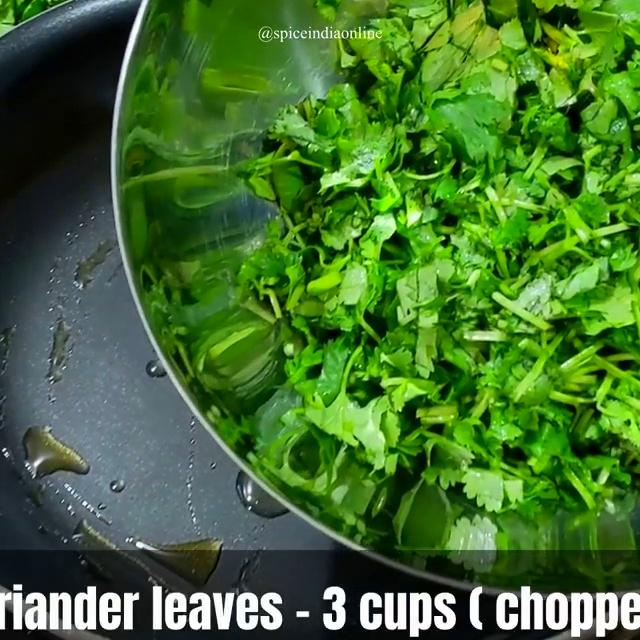cilantro: (320, 0, 640, 470)
